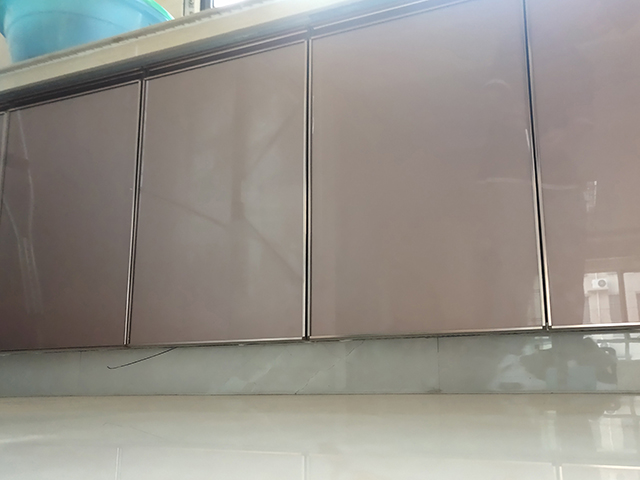cabinet: (1, 1, 640, 399)
